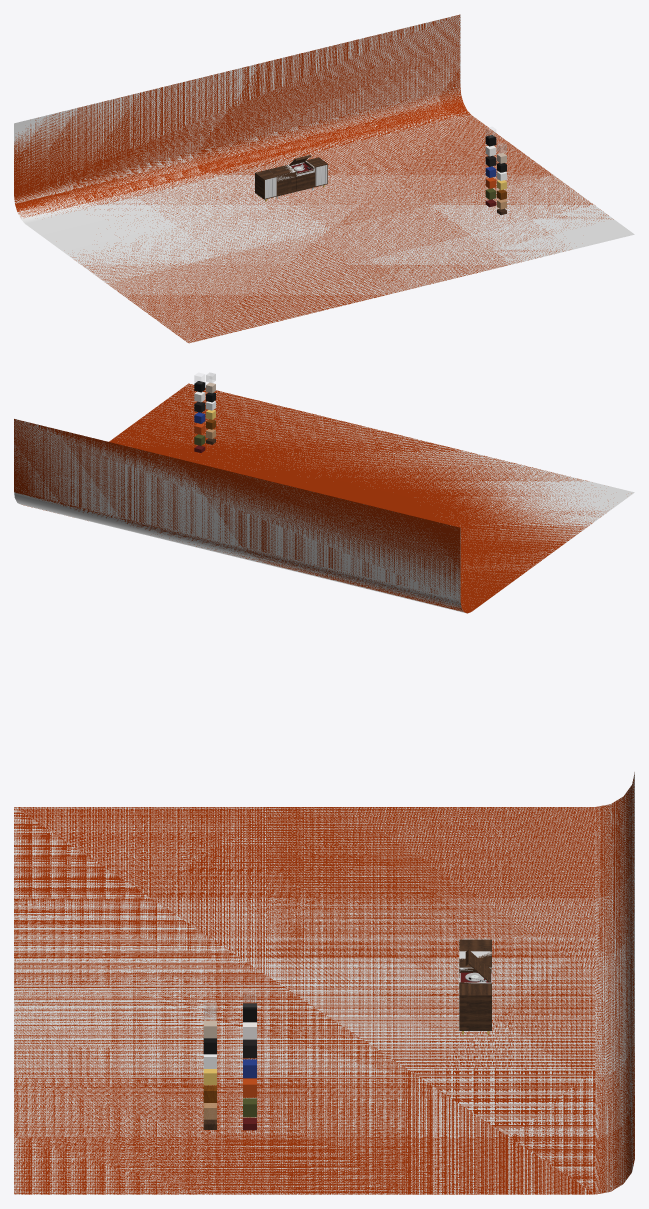
Rendered from 3DTOWEBB_BACKGROUND_FIX.glb.
3 views of the same model, one above another, from view 1: azimuth 30°, elevation 25°; view 2: azimuth 150°, elevation 25°; view 3: azimuth 270°, elevation 25° (orthographic). The views are drawn at different scales.
Visible parts, largest first — view 1: Scene_White, Scene_Orange, Console_Large, Cabinet_Smooth, Speaker; view 2: Scene_Orange, Scene_White; view 3: Scene_Orange, Scene_White, Console_Large.
Boxes of the visible parts, box(x1,y1,x2,y2) form: Scene_White: box(14, 14, 634, 343); Scene_Orange: box(14, 14, 613, 343); Console_Large: box(255, 157, 327, 199); Cabinet_Smooth: box(277, 172, 314, 196); Speaker: box(265, 165, 327, 198); Scene_Orange: box(14, 383, 608, 613); Scene_White: box(14, 384, 634, 612); Scene_Orange: box(14, 772, 634, 1194); Scene_White: box(14, 773, 634, 1194); Console_Large: box(459, 939, 491, 1030).
Size of the model in its own units: 13.98 by 2.88 by 9.46.
34 materials, 8 textured.
